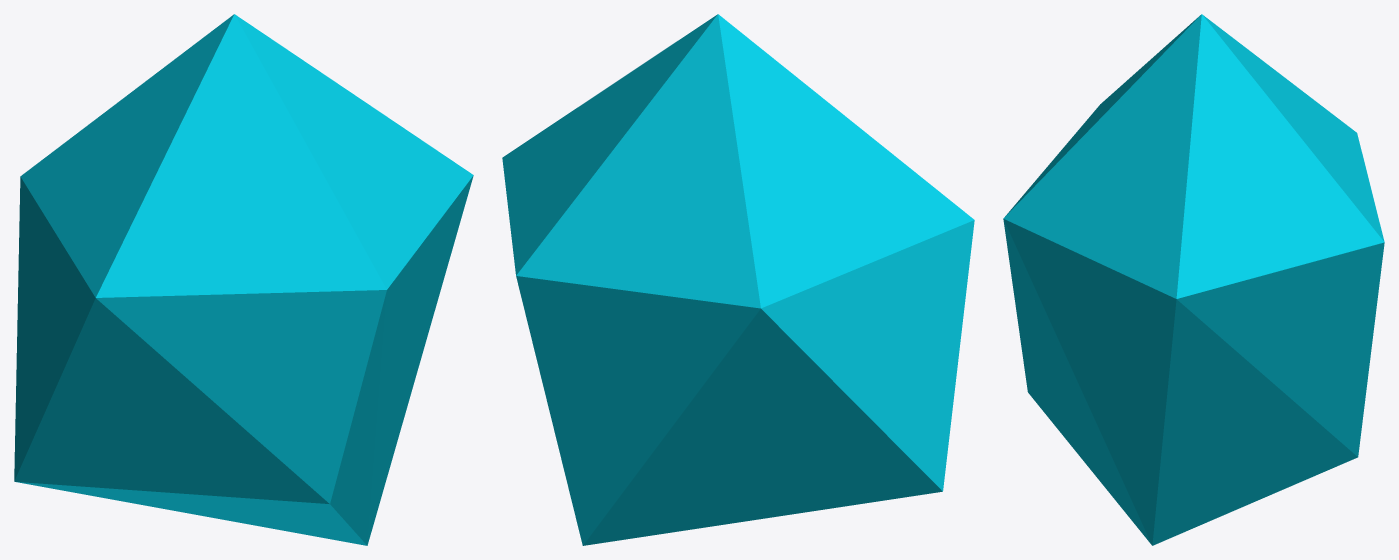
File: Cristal Grande.fbx
3 views of the same model, side by side, from view 1: azimuth 30°, elevation 25°; view 2: azimuth 150°, elevation 25°; view 3: azimuth 270°, elevation 25° (orthographic). The views are drawn at different scales.
Visible parts, largest first — view 1: Icosphere.001; view 2: Icosphere.001; view 3: Icosphere.001.
Boxes of the visible parts, x1,y1,x2,y2 form: Icosphere.001: (14, 14, 473, 545); Icosphere.001: (502, 14, 974, 545); Icosphere.001: (1003, 14, 1384, 545).
Size of the model in its own units: 201 by 231 by 165.
